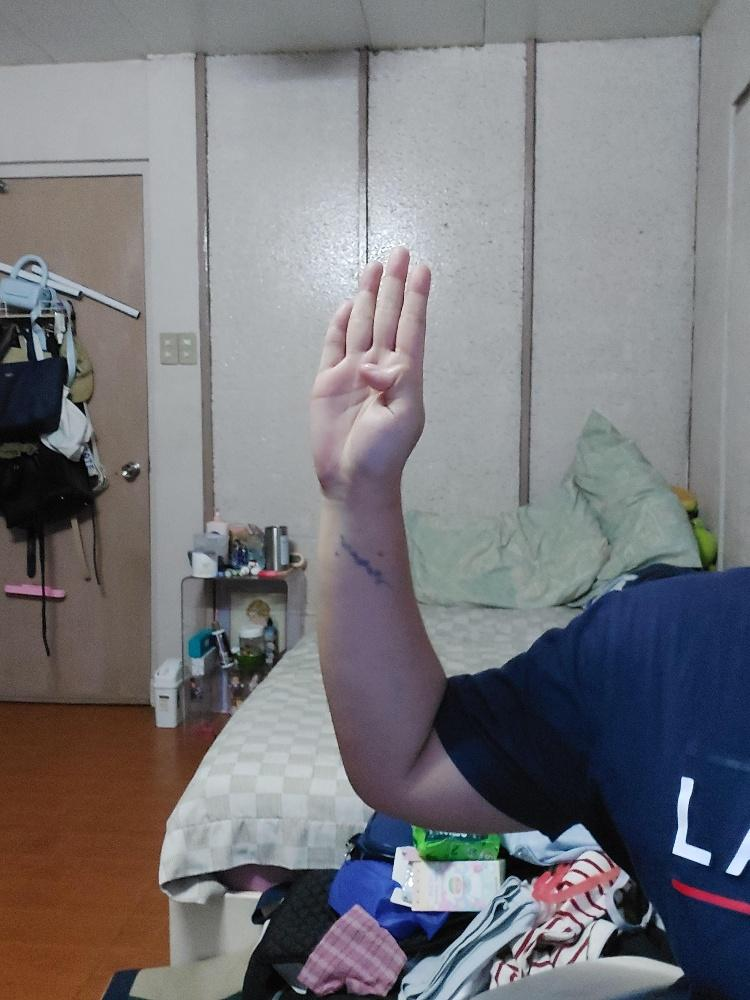b: (309, 244, 430, 498)
